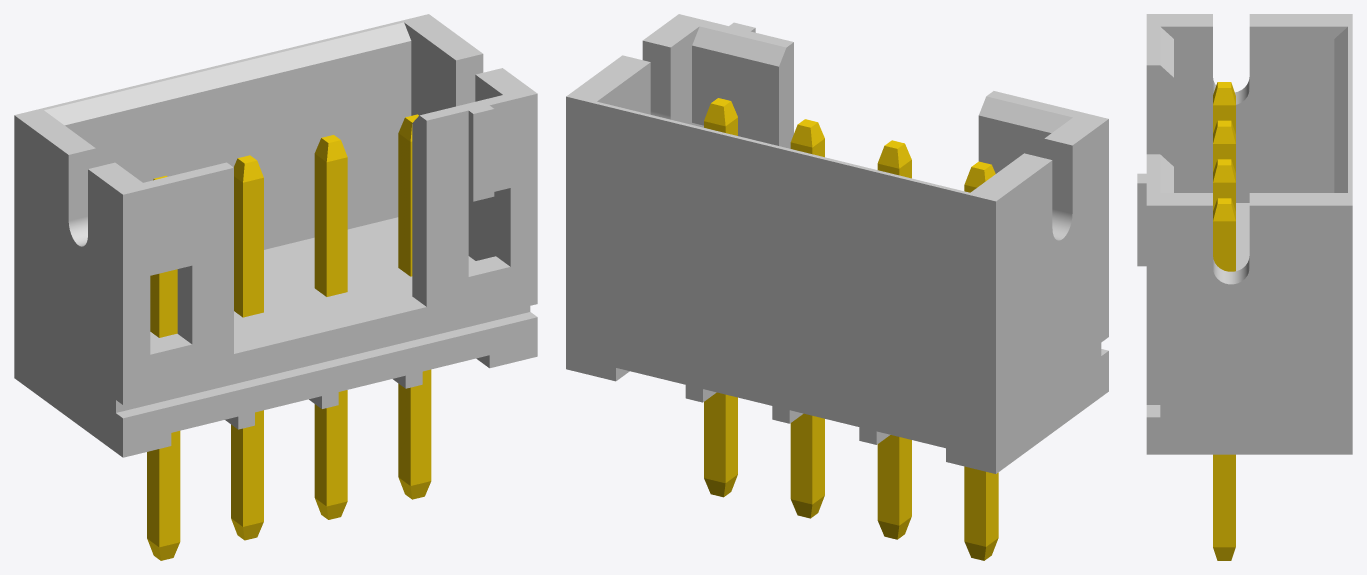
3 views of the same model, side by side, from view 1: azimuth 30°, elevation 25°; view 2: azimuth 150°, elevation 25°; view 3: azimuth 270°, elevation 25° (orthographic). The views are drawn at different scales.
Visible parts, largest first — view 1: BxB-PH-K-S; view 2: BxB-PH-K-S; view 3: BxB-PH-K-S.
Boxes of the visible parts, x1=… form: BxB-PH-K-S: x1=14, y1=14, x2=537, y2=560; BxB-PH-K-S: x1=566, y1=14, x2=1108, y2=560; BxB-PH-K-S: x1=1137, y1=14, x2=1352, y2=560.
Bounding box in the file's own units: 0.0099 × 0.0094 × 0.0047.
